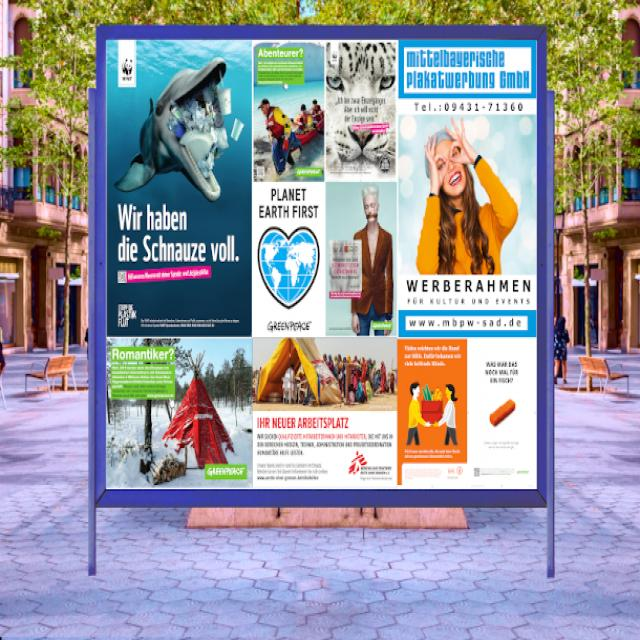Werbetafel frei: (93, 24, 549, 514)
